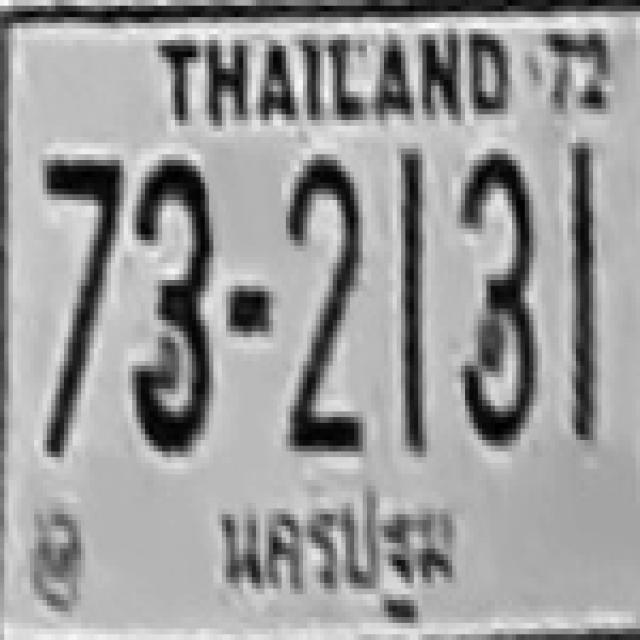1: (568, 143, 598, 406), (397, 148, 422, 406)
2: (284, 154, 361, 429), (284, 154, 361, 406)
3: (457, 148, 538, 446), (128, 154, 209, 446)
7: (40, 154, 121, 434), (40, 154, 121, 360), (40, 154, 121, 332)
NakhonPathom: (202, 484, 486, 629)
